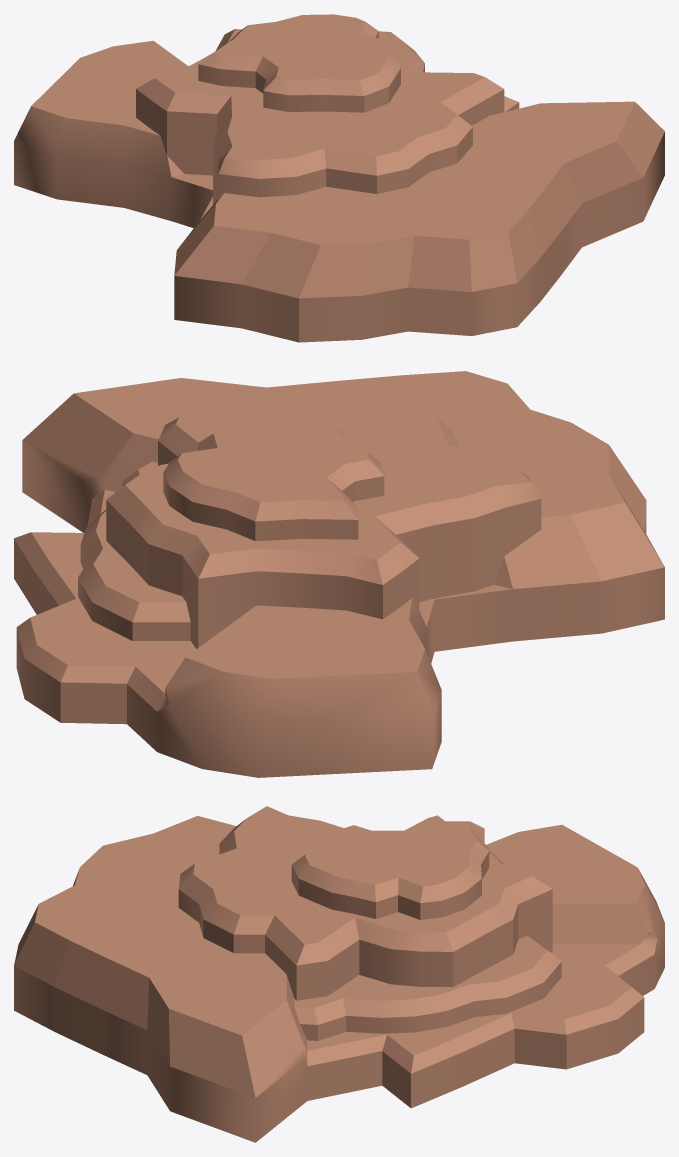
File: DesertRock1.fbx
3 views of the same model, one above another, from view 1: azimuth 30°, elevation 25°; view 2: azimuth 150°, elevation 25°; view 3: azimuth 270°, elevation 25° (orthographic). The views are drawn at different scales.
Visible parts, largest first — view 1: DesertRock1; view 2: DesertRock1; view 3: DesertRock1.
Part boxes in pixels (bbox=[...]): DesertRock1: bbox=[14, 14, 664, 342]; DesertRock1: bbox=[14, 371, 664, 777]; DesertRock1: bbox=[14, 806, 664, 1142].
Size of the model in its own units: 17.98 by 4.86 by 19.3.
